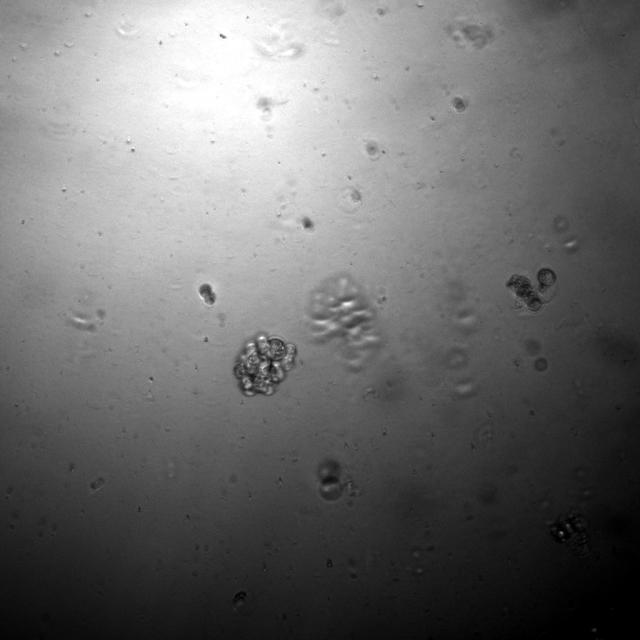organoid: (306, 274, 380, 369), (234, 334, 296, 395), (506, 267, 556, 312), (549, 512, 590, 556), (317, 458, 342, 501), (198, 283, 216, 308), (232, 590, 246, 610), (452, 96, 466, 113), (533, 357, 548, 371), (302, 216, 314, 232)
